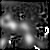node: (1, 13, 34, 33), (23, 33, 35, 48), (1, 35, 7, 49)
